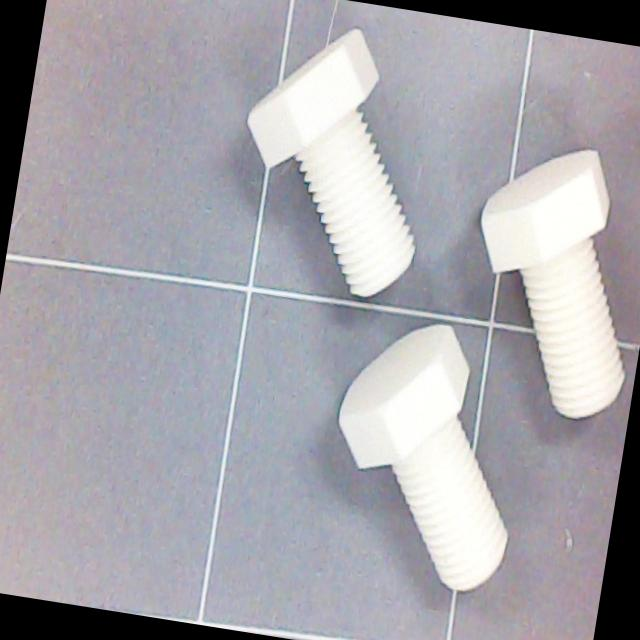bolts: (316, 317, 551, 612), (229, 28, 456, 315), (468, 148, 640, 431)
